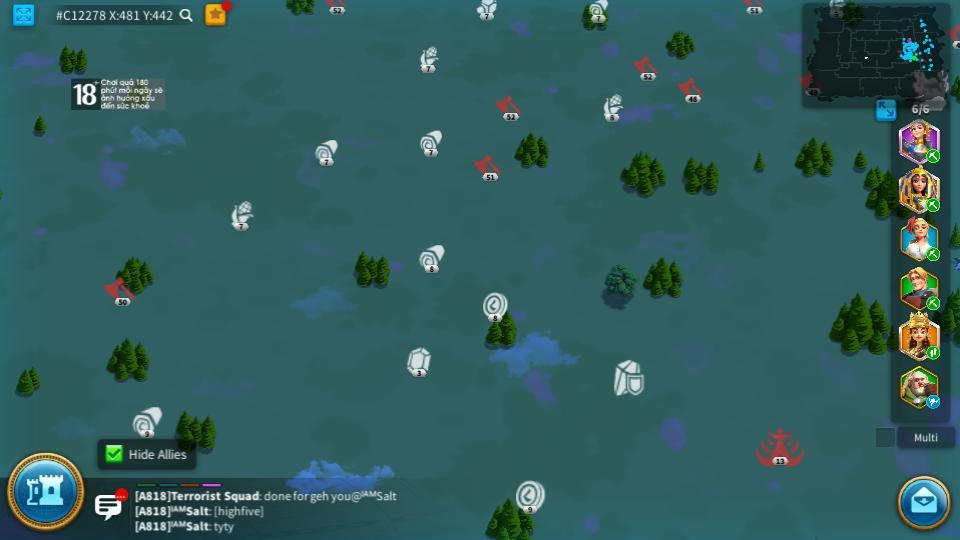march_farming: (923, 197, 940, 212), (925, 149, 941, 162), (925, 297, 942, 308), (926, 249, 940, 261)
march_idle: (925, 396, 942, 408)
march_marching: (925, 347, 941, 359)
